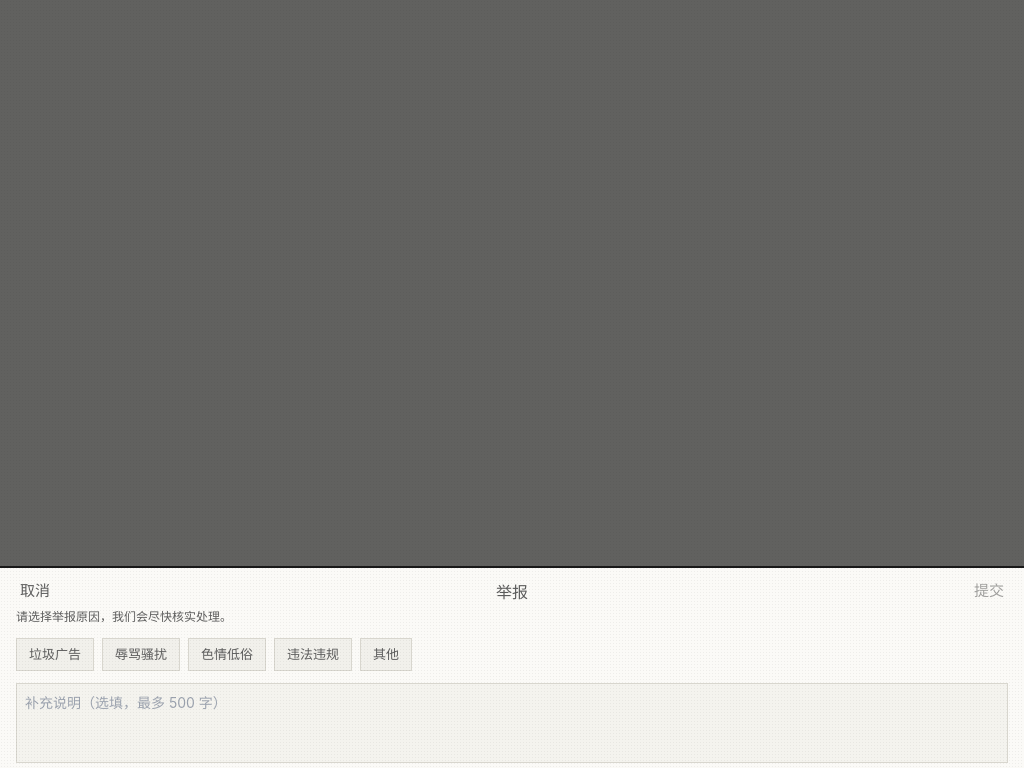
ReportSheet › 提交失败时展示错误且不关闭
Step 1. Click the button with test id "report-reason-other" → coordinates (386, 654), box [360,638,412,671]
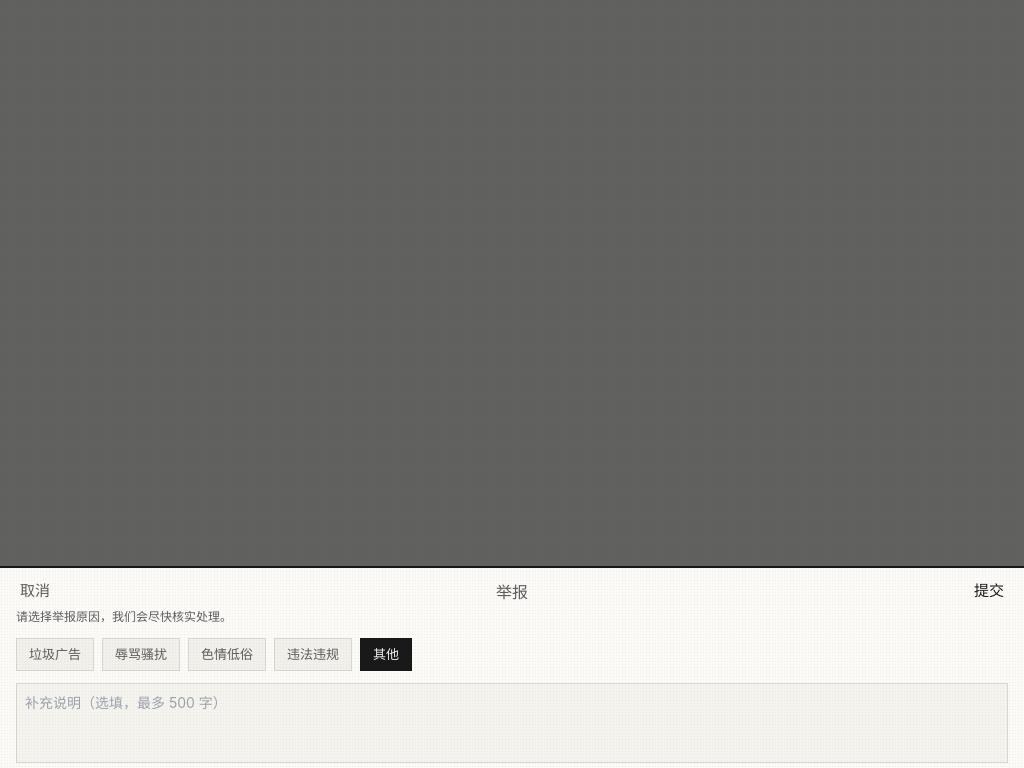
Step 2. Click the button with test id "report-submit" → coordinates (989, 592), box [970,580,1008,603]
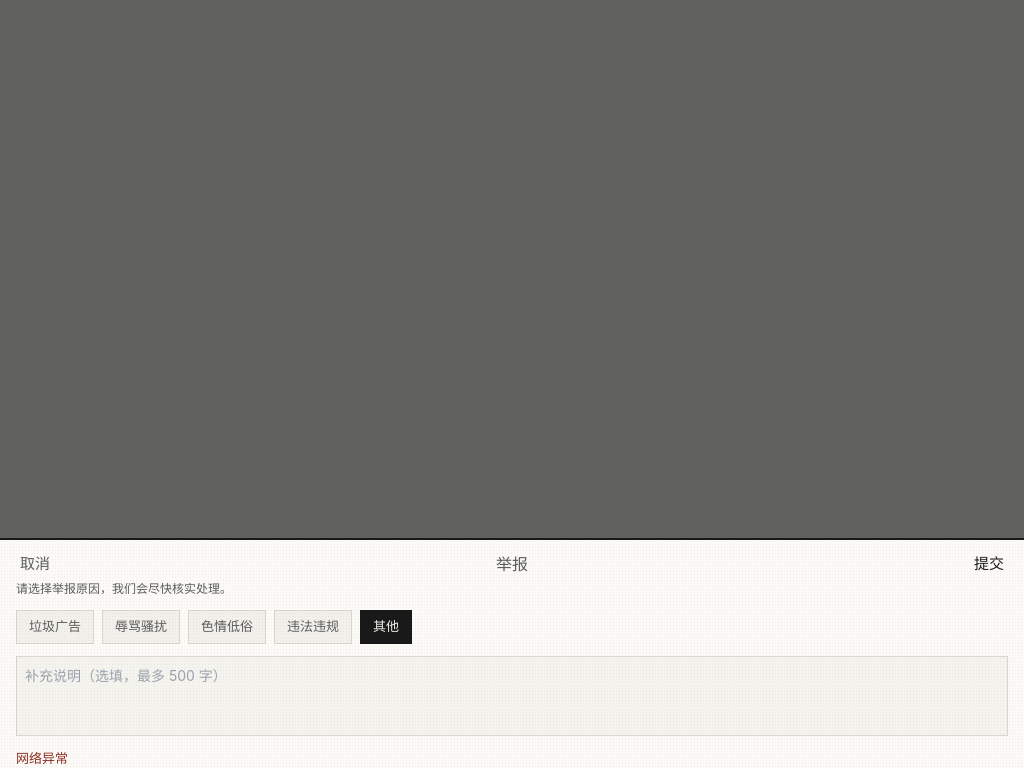
Check: the text with test id "report-error" reads "网络异常", box [16,750,68,766]
